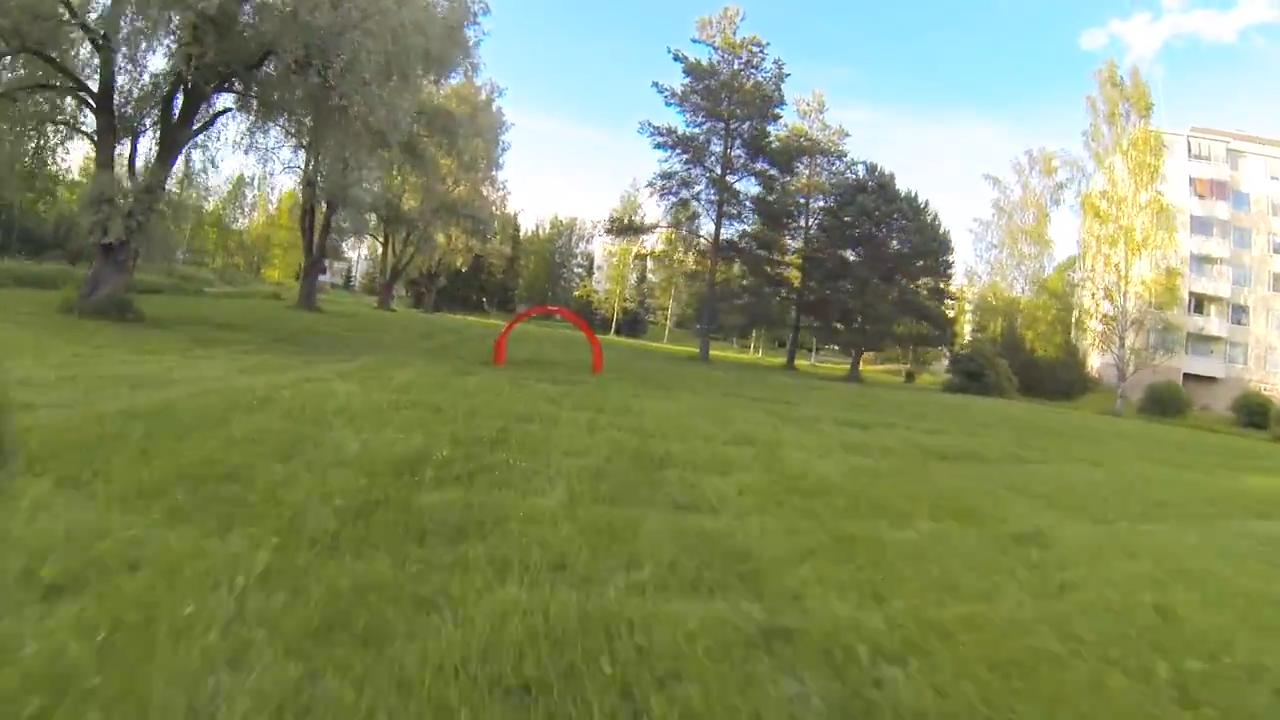gate: (490, 304, 604, 377)
